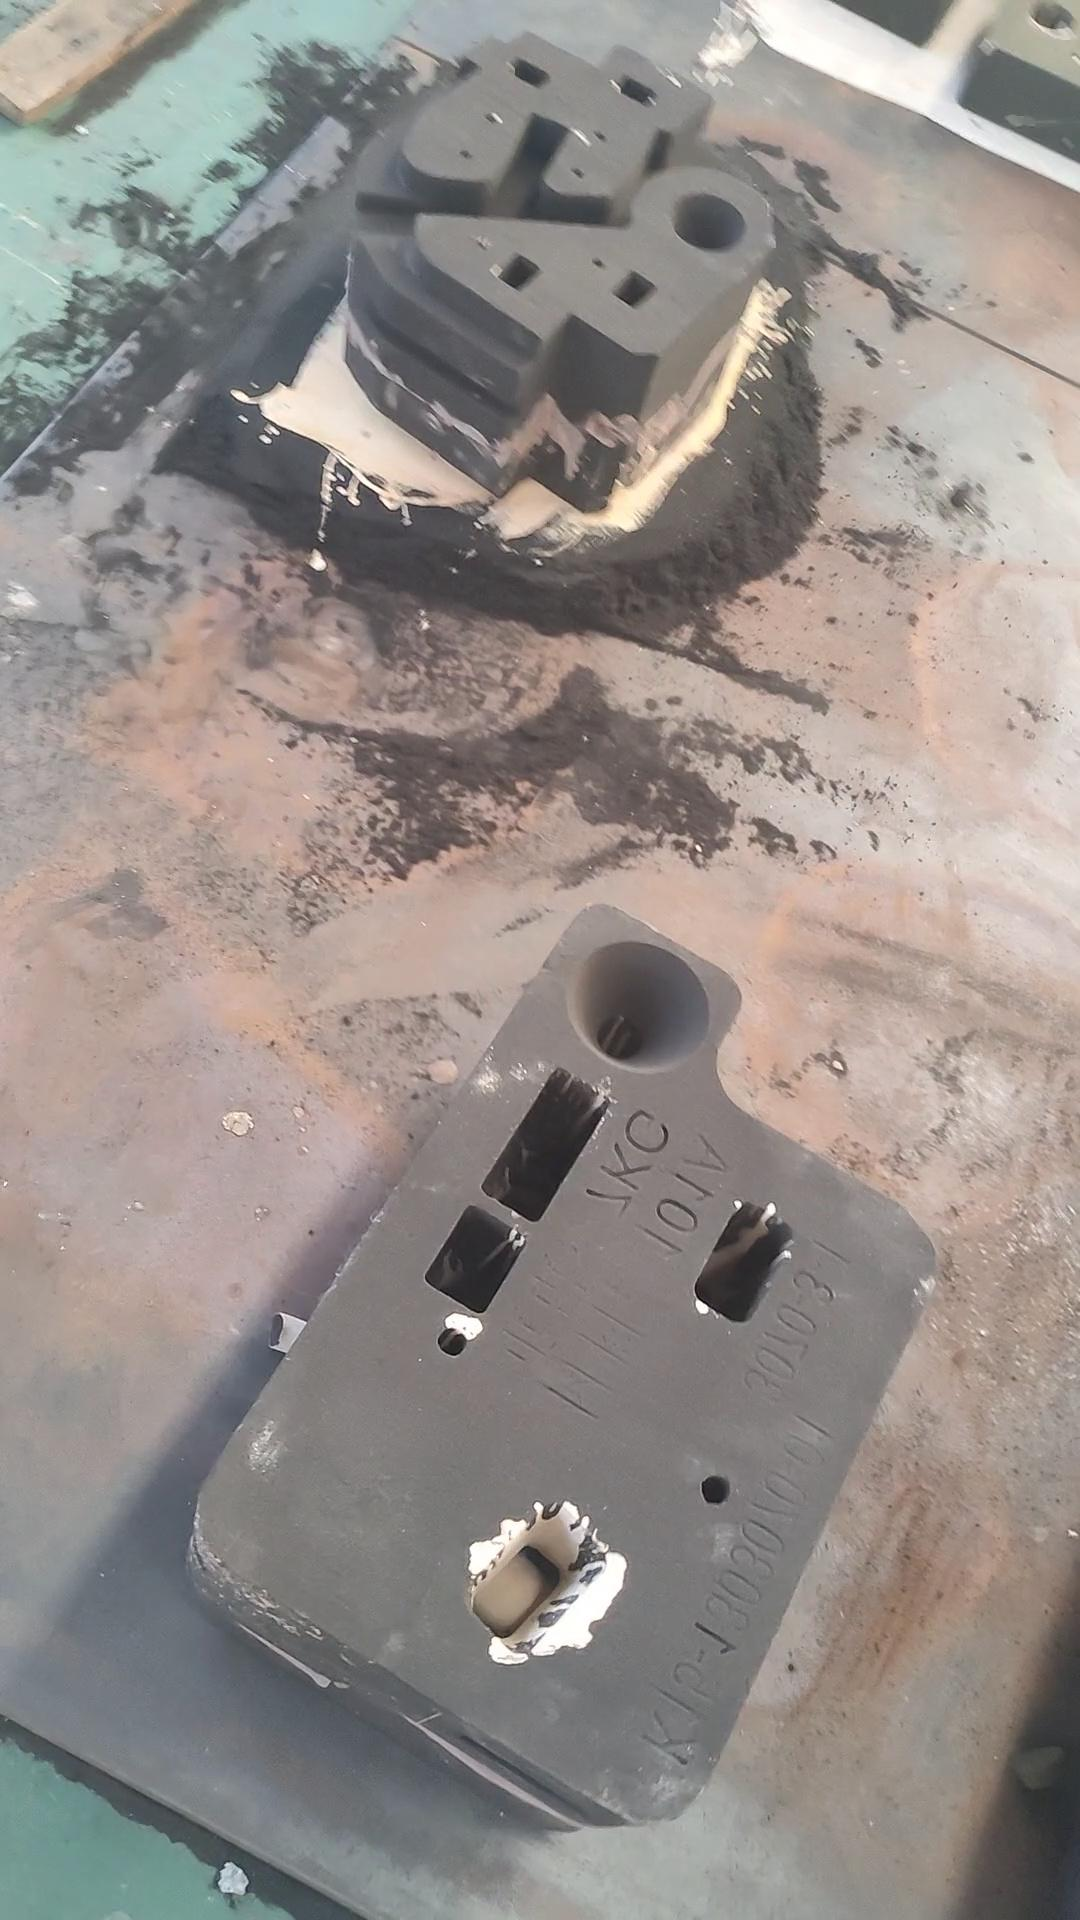pouring hole: (568, 942, 709, 1073), (671, 193, 746, 252), (1026, 1, 1075, 36)
